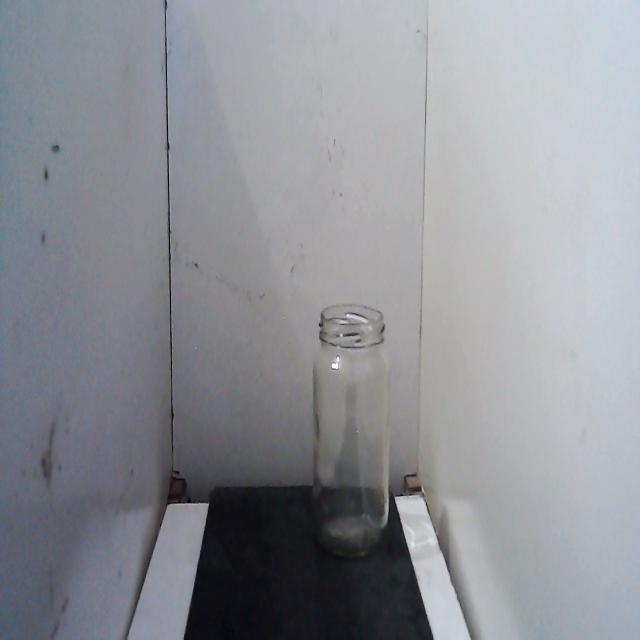vidro: (306, 288, 400, 572)
